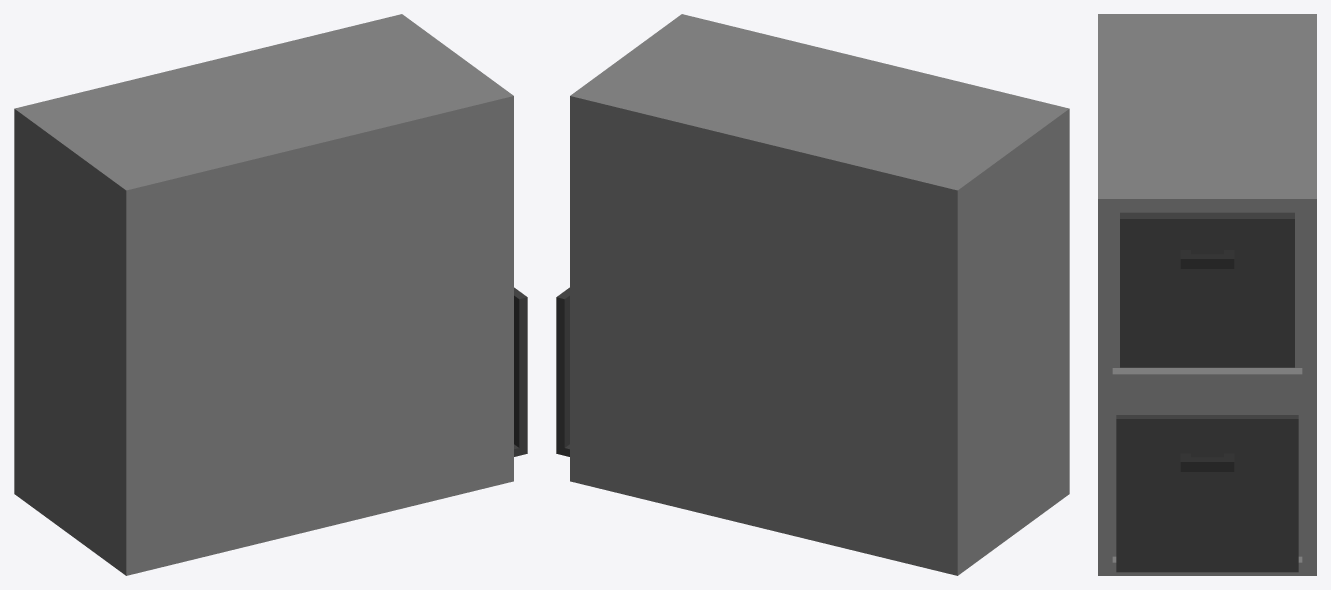
File: Cabinet.fbx
3 views of the same model, side by side, from view 1: azimuth 30°, elevation 25°; view 2: azimuth 150°, elevation 25°; view 3: azimuth 270°, elevation 25° (orthographic). The views are drawn at different scales.
Parts seen in each view (by area): view 1: Cabinet; view 2: Cabinet; view 3: Cabinet.
Boxes of the visible parts, x1=… form: Cabinet: x1=14, y1=14, x2=527, y2=575; Cabinet: x1=556, y1=14, x2=1069, y2=575; Cabinet: x1=1098, y1=14, x2=1316, y2=575.
Bounding box in the file's own units: 66.28 × 57 × 30.
Materials: 1 (1 with a texture image).
